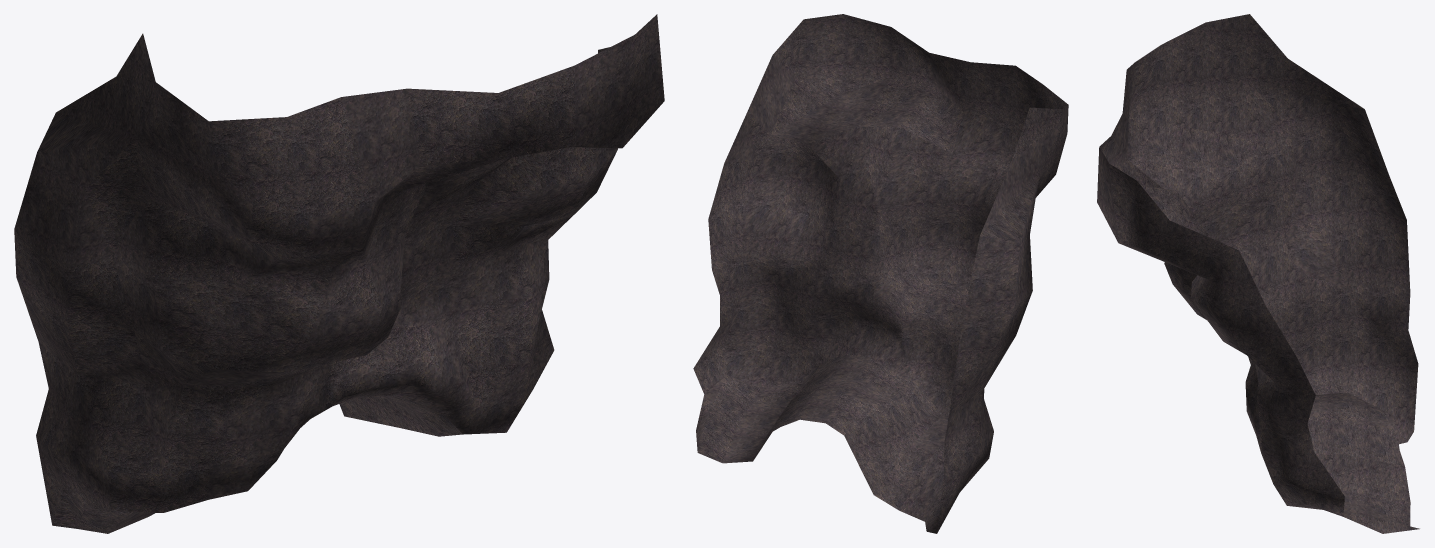
File: cliff_wall.fbx
The picture shows the model from 3 angles, left to right: view 1: azimuth 30°, elevation 25°; view 2: azimuth 150°, elevation 25°; view 3: azimuth 270°, elevation 25°; orthographic projection. The views are drawn at different scales.
Visible parts, largest first — view 1: cliff_wall; view 2: cliff_wall; view 3: cliff_wall.
Part boxes in pixels (x1,y1,x2,y2): cliff_wall: [14, 14, 664, 533]; cliff_wall: [693, 14, 1068, 533]; cliff_wall: [1097, 14, 1419, 533].
Size of the model in its own units: 253 by 275 by 196.
